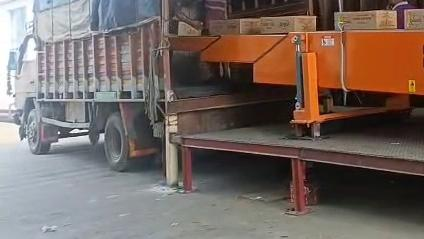box: (334, 10, 397, 29), (260, 16, 316, 33), (209, 18, 259, 35), (404, 8, 423, 29), (177, 21, 201, 35)
